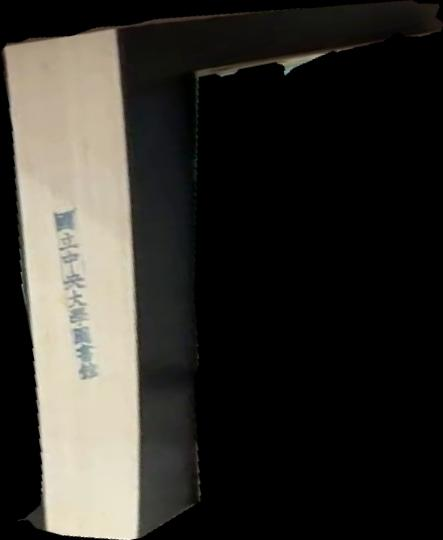backward: (1, 1, 443, 540)
